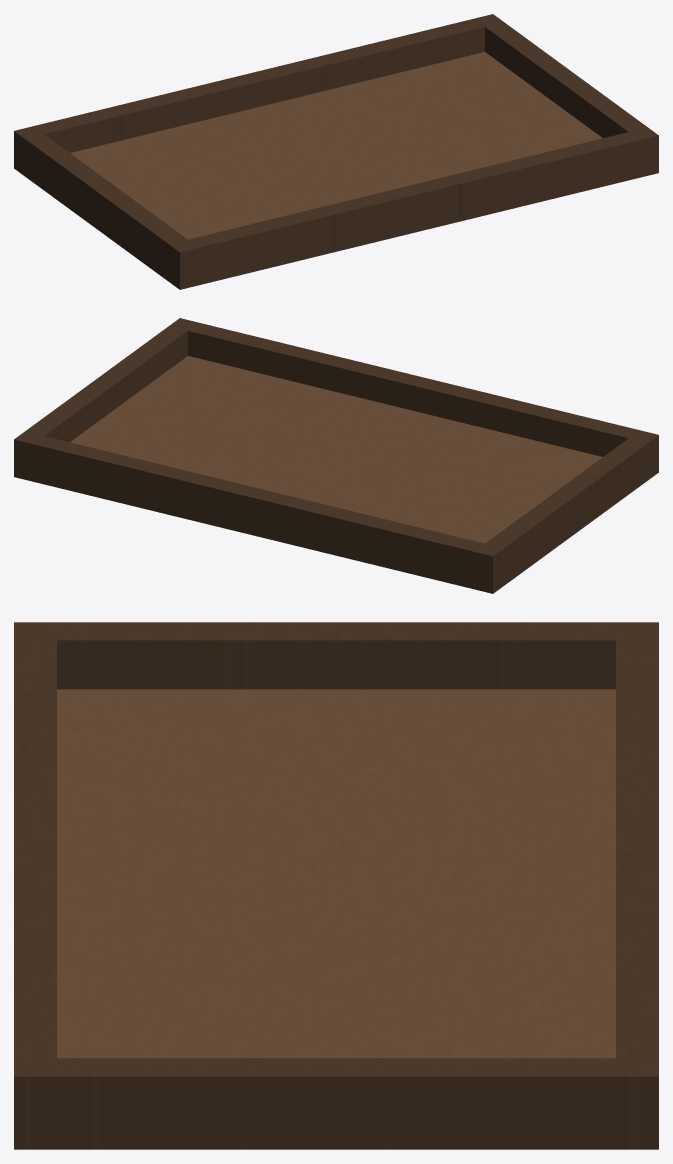
File: tray.glb
The picture shows the model from 3 angles, top to bottom: view 1: azimuth 30°, elevation 25°; view 2: azimuth 150°, elevation 25°; view 3: azimuth 270°, elevation 25°; orthographic projection. The views are drawn at different scales.
Parts seen in each view (by area): view 1: tray; view 2: tray; view 3: tray.
Part boxes in pixels (left/top/right/bottom): tray: left=14, top=14, right=658, bottom=289; tray: left=14, top=318, right=658, bottom=593; tray: left=14, top=622, right=658, bottom=1149.
Size of the model in its own units: 0.2 by 0.015 by 0.12.
2 materials, 2 textured.
